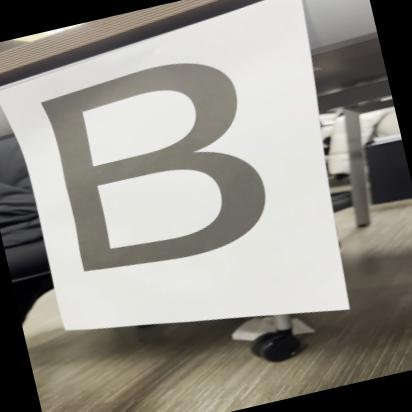seat: (15, 36, 314, 300)
